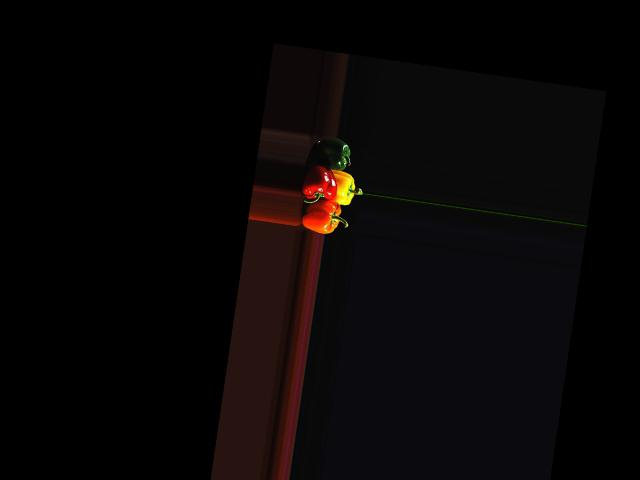bell_pepper: (294, 195, 347, 236)
